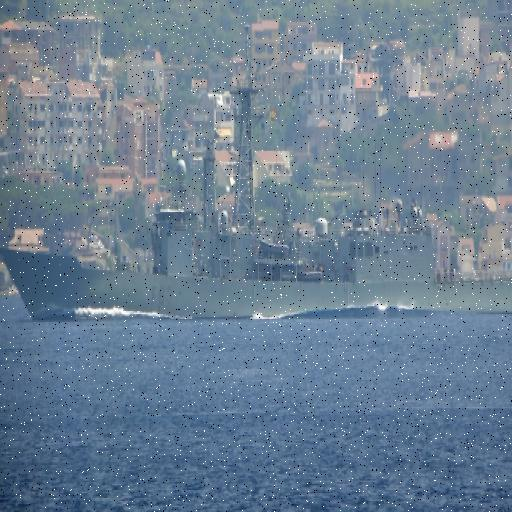Fragata: (1, 15, 512, 331)
